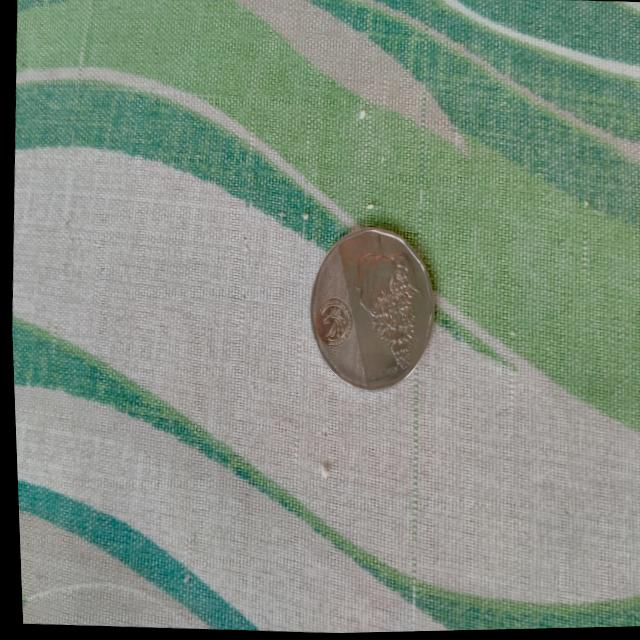10_New_Back: (337, 224, 428, 390)
